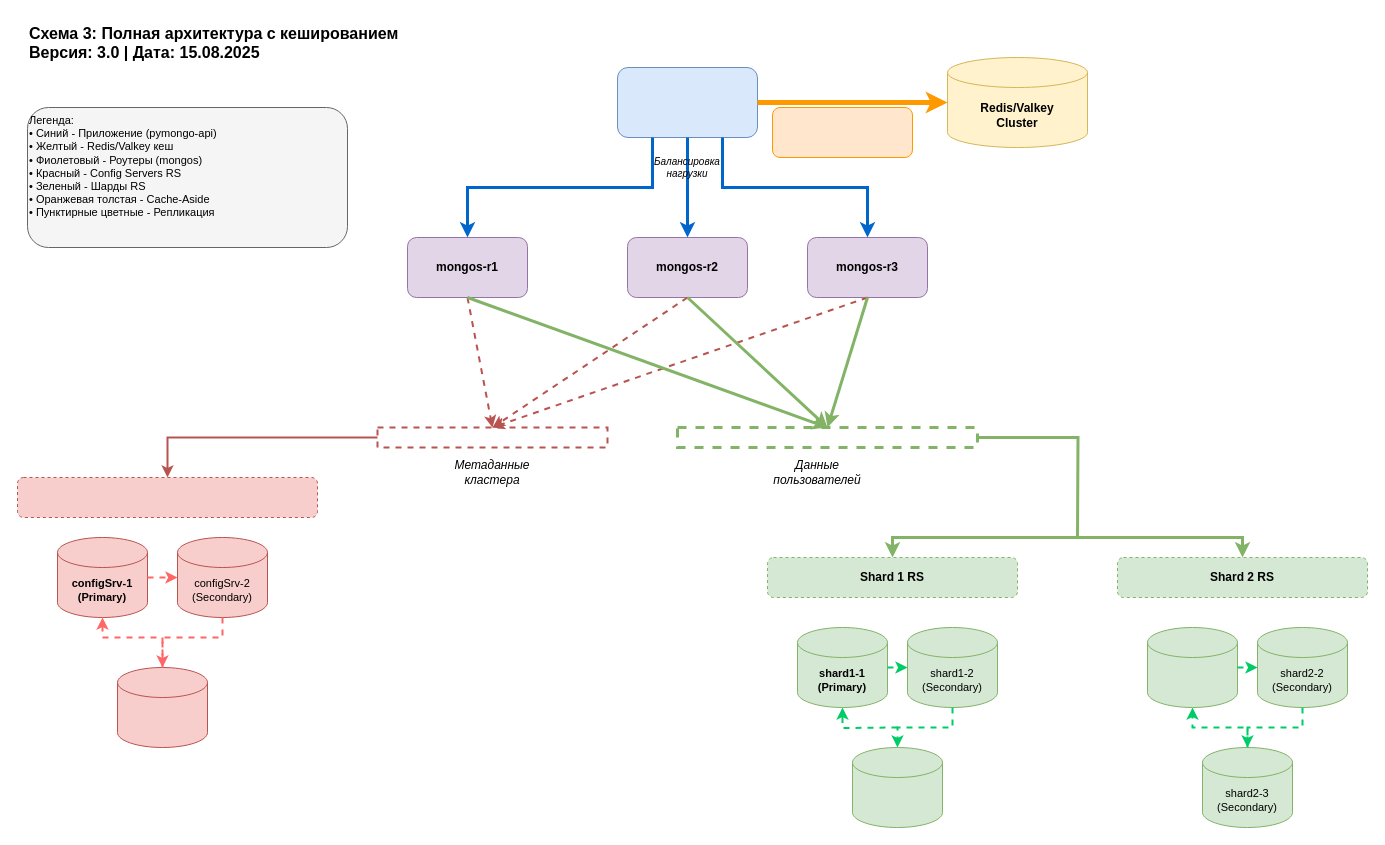
The diagram is 1385 pixels wide and 845 high, and some of its shapes have lost their labels. The box of each missing label's shape, as (x1, y1, x2, y2) in pixels:
Cache-Aside (Приоритетный путь): (772, 106, 912, 158)
Config Servers RS: (16, 476, 318, 518)
configSrv-3 (Secondary): (116, 666, 208, 748)
pymongo-api: (616, 66, 758, 138)
shard1-3 (Secondary): (852, 746, 942, 828)
shard2-1 (Primary): (1146, 626, 1238, 708)
